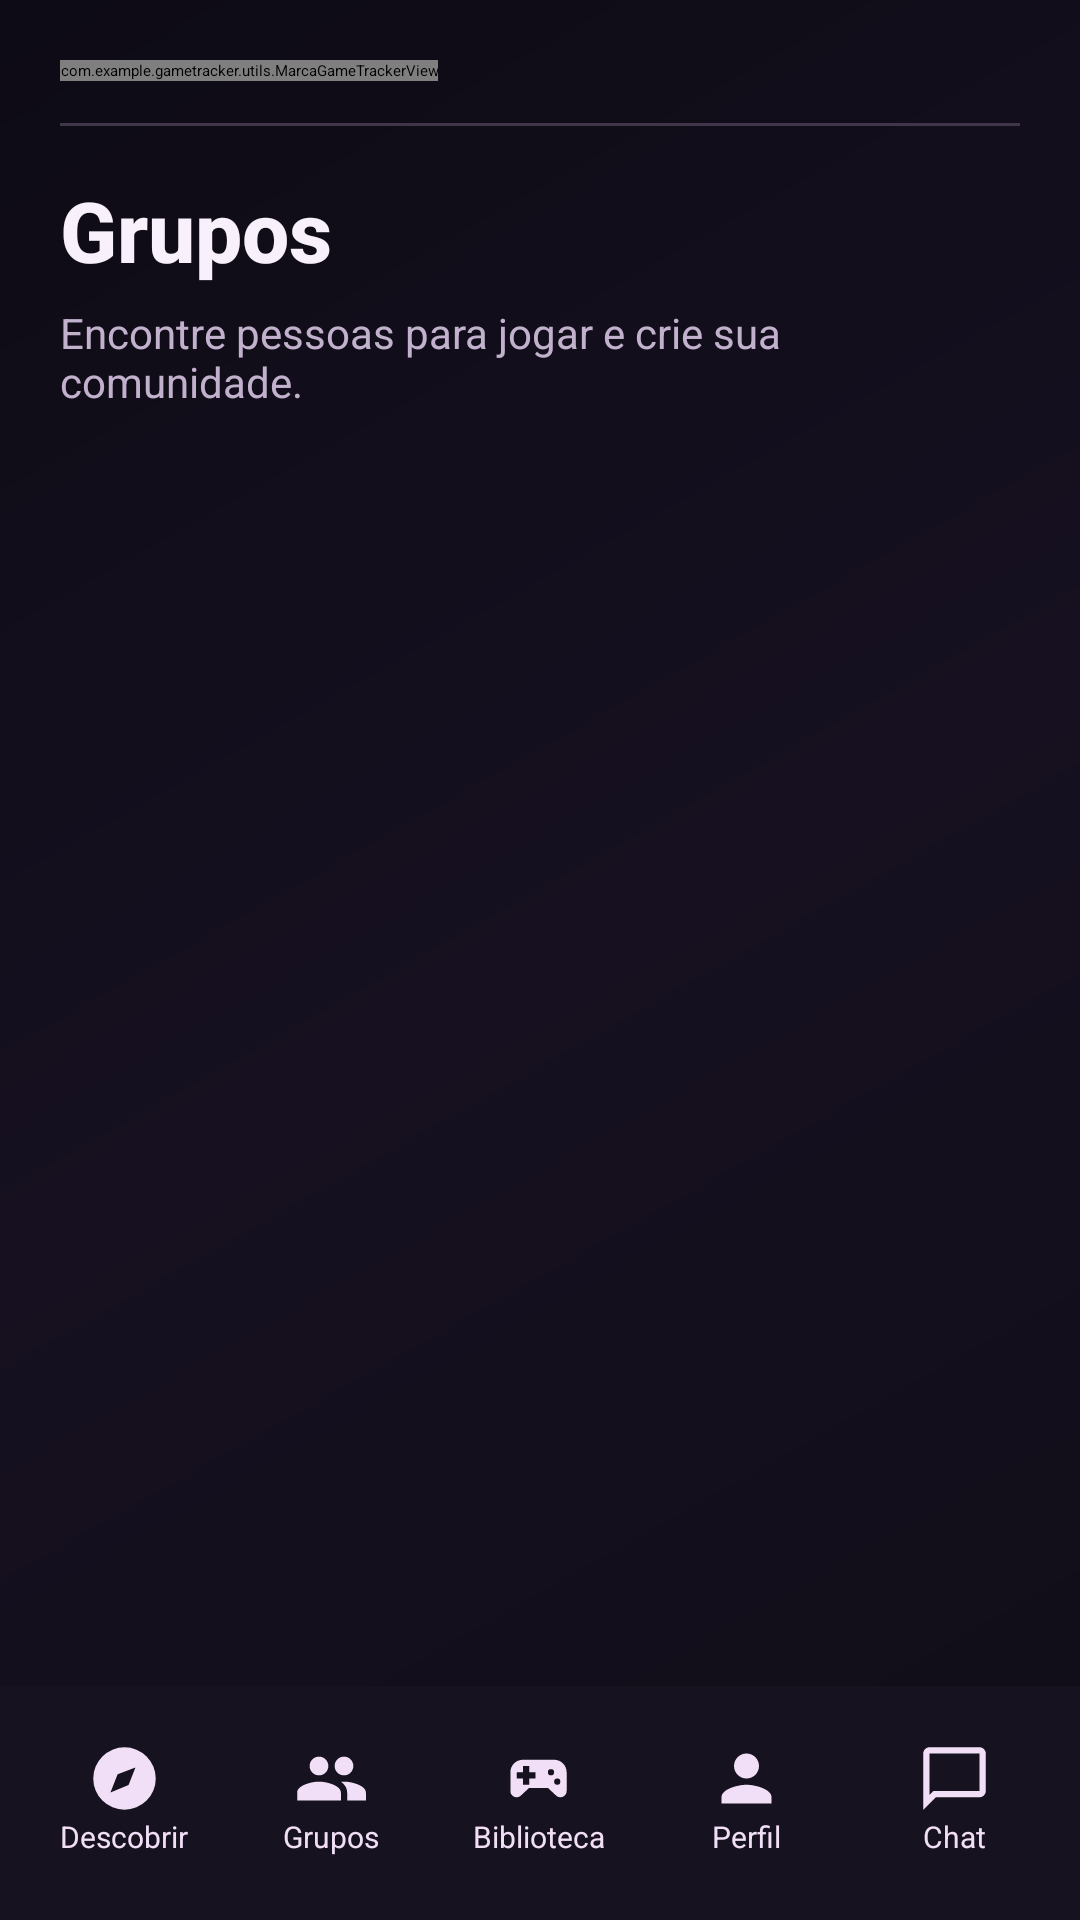

Named icons in this screenshot (1080px x 1920px) and their centers, (x,y):
compass: (124,1778)
gamepad: (538,1778)
user: (746,1778)
